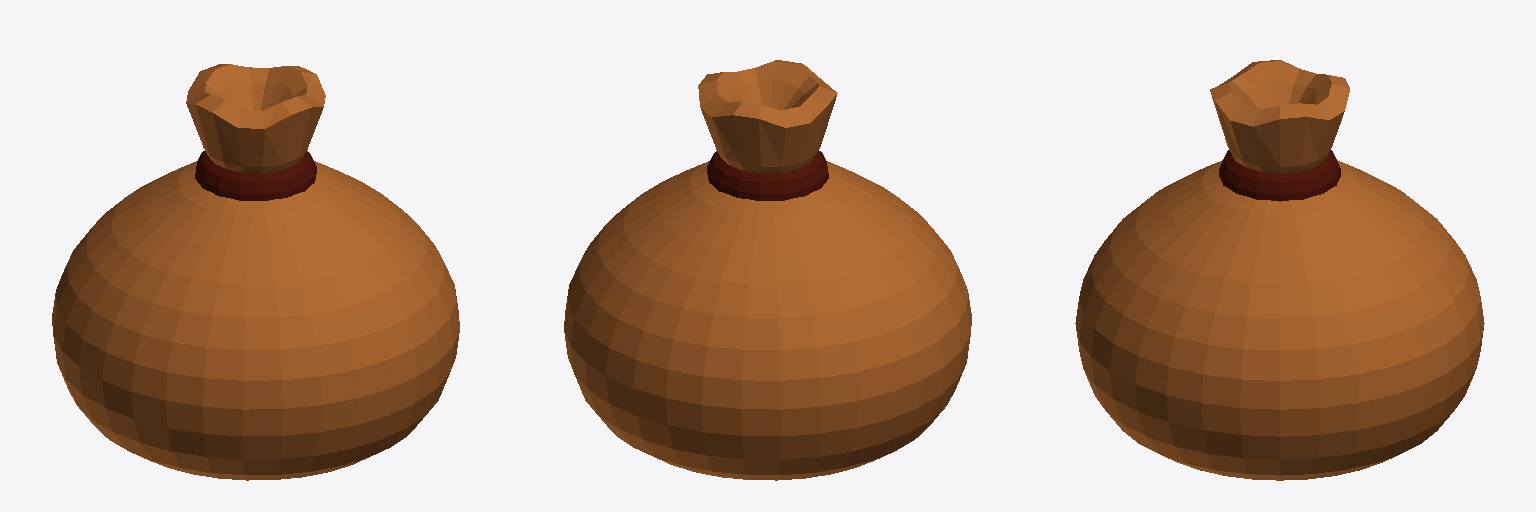
Rendered from lootSackB.obj.
The picture shows the model from 3 angles: view 1: azimuth 30°, elevation 25°; view 2: azimuth 150°, elevation 25°; view 3: azimuth 270°, elevation 25°; orthographic projection.
Visible parts, largest first — view 1: lootSackB_Sphere.006; view 2: lootSackB_Sphere.006; view 3: lootSackB_Sphere.006.
Part boxes in pixels (x1,y1,x2,y2): lootSackB_Sphere.006: (52,64,459,480); lootSackB_Sphere.006: (564,60,971,480); lootSackB_Sphere.006: (1075,60,1484,480).
Bounding box in the file's own units: 1 × 0.933 × 1.